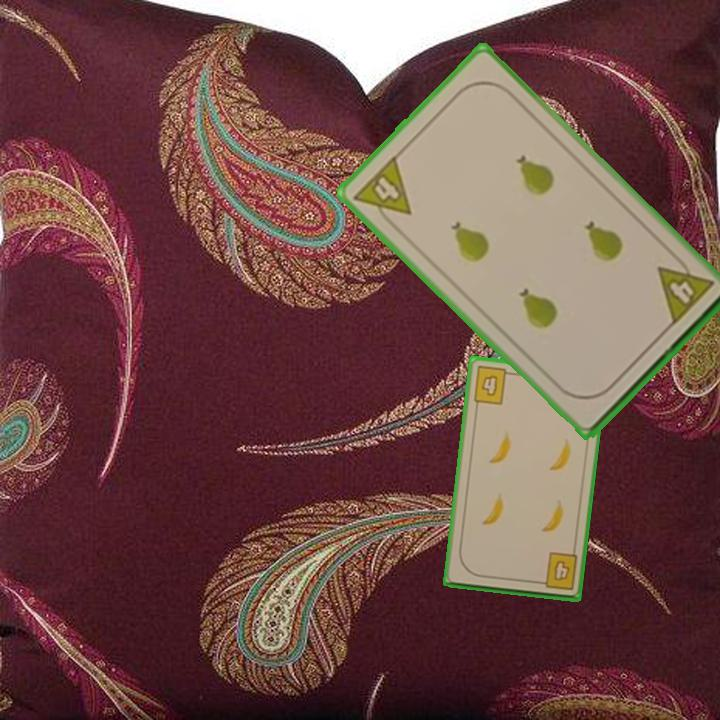4b: (533, 549, 581, 593), (470, 363, 516, 407)
4p: (350, 152, 414, 233), (651, 250, 716, 329)
